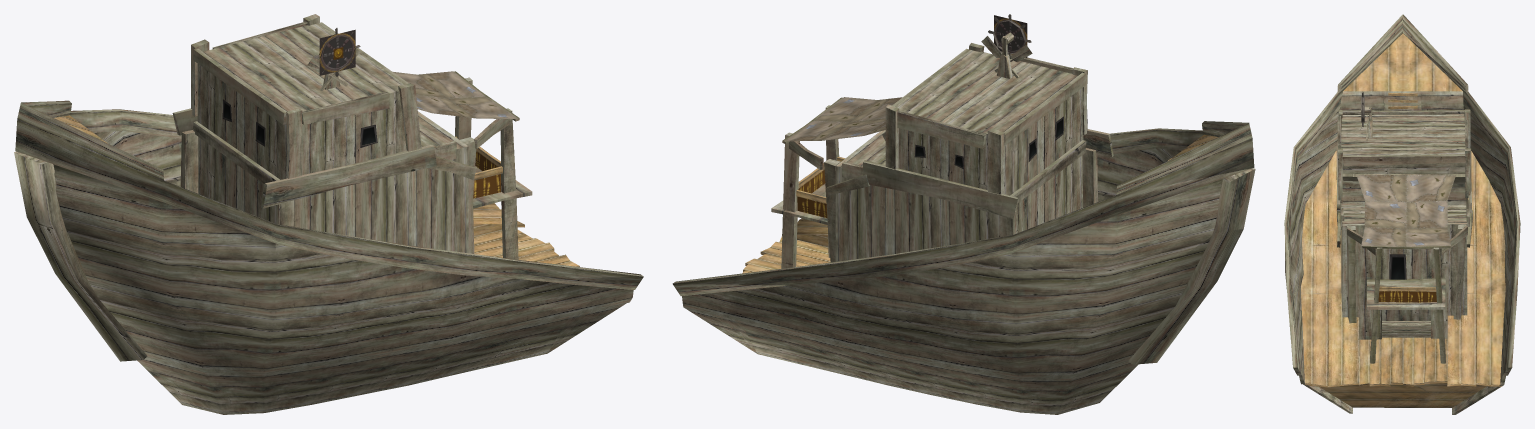
The model's file is shanty_repairshop_exterior.fbx.
3 views of the same model, side by side, from view 1: azimuth 30°, elevation 25°; view 2: azimuth 150°, elevation 25°; view 3: azimuth 270°, elevation 25° (orthographic). The views are drawn at different scales.
Parts seen in each view (by area): view 1: repairshop_boat1, cabin, Bow, wood1, canvas_down, deck.001, wood_column, wood11, wood, radial_front1, wood10, wood3 (+5 smaller); view 2: repairshop_boat1, cabin, Bow, wood8, canvas_down, deck.001, wood_column1, wood6, wood11, wood5, wood10, wood_column3 (+4 smaller); view 3: deck.001, repairshop_boat1, cabin, canvas_down, flooring, wood12, canvas_up, wood_column2, wood_column1, wood_column3, balconyfence16, wood_column (+10 smaller).
Part boxes in pixels (x1=…): repairshop_boat1: x1=15, y1=100, x2=643, y2=414; cabin: x1=197, y1=23, x2=468, y2=253; Bow: x1=14, y1=151, x2=147, y2=361; wood1: x1=261, y1=144, x2=436, y2=208; canvas_down: x1=393, y1=71, x2=517, y2=118; deck.001: x1=54, y1=115, x2=579, y2=266; wood_column: x1=500, y1=108, x2=518, y2=259; wood11: x1=193, y1=48, x2=286, y2=124; wood: x1=301, y1=91, x2=389, y2=124; radial_front1: x1=319, y1=29, x2=355, y2=75; wood10: x1=193, y1=121, x2=279, y2=183; wood3: x1=398, y1=83, x2=421, y2=151; repairshop_boat1: x1=672, y1=121, x2=1254, y2=414; cabin: x1=835, y1=50, x2=1083, y2=261; Bow: x1=1128, y1=168, x2=1255, y2=364; wood8: x1=863, y1=160, x2=1017, y2=218; canvas_down: x1=784, y1=97, x2=902, y2=141; deck.001: x1=742, y1=134, x2=1218, y2=273; wood_column1: x1=781, y1=132, x2=799, y2=268; wood6: x1=897, y1=110, x2=986, y2=148; wood11: x1=1004, y1=72, x2=1086, y2=145; wood5: x1=987, y1=128, x2=1004, y2=194; wood10: x1=1010, y1=140, x2=1086, y2=203; wood_column3: x1=824, y1=159, x2=840, y2=262; deck.001: x1=1301, y1=33, x2=1505, y2=387; repairshop_boat1: x1=1284, y1=14, x2=1520, y2=414; cabin: x1=1341, y1=114, x2=1467, y2=339; canvas_down: x1=1356, y1=175, x2=1455, y2=246; flooring: x1=1367, y1=278, x2=1445, y2=309; wood12: x1=1342, y1=154, x2=1465, y2=165; canvas_up: x1=1359, y1=175, x2=1453, y2=245; wood_column2: x1=1347, y1=226, x2=1356, y2=323; wood_column1: x1=1433, y1=247, x2=1445, y2=363; wood_column3: x1=1453, y1=224, x2=1466, y2=319; balconyfence16: x1=1378, y1=291, x2=1436, y2=302; wood_column: x1=1370, y1=247, x2=1382, y2=363.
Size of the model in its own units: 11294 by 7220 by 6094.
2 materials, 2 textured.
